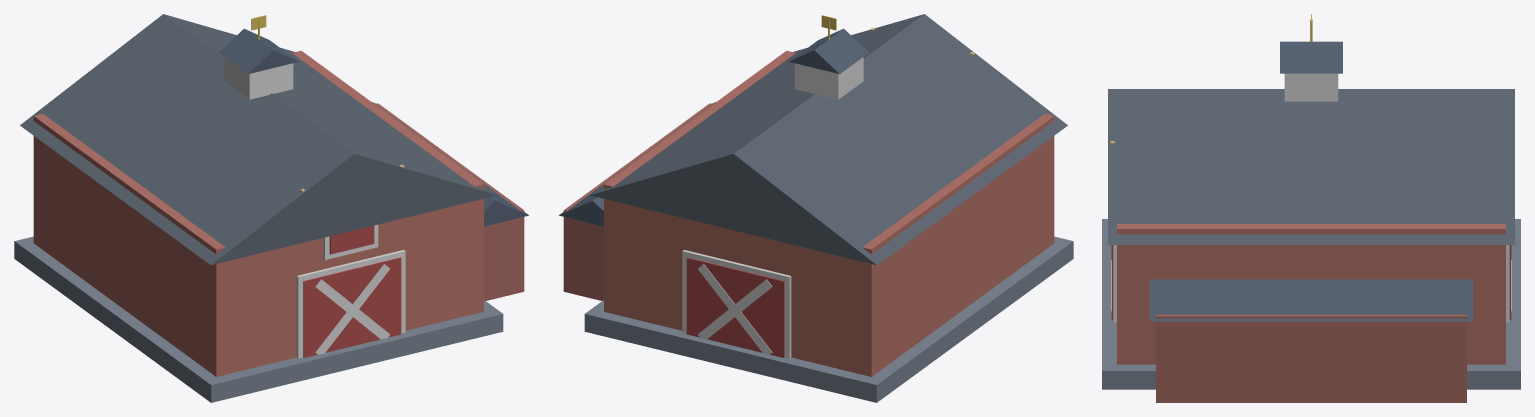
File: hart-barn.glb
The picture shows the model from 3 angles, left to right: view 1: azimuth 30°, elevation 25°; view 2: azimuth 150°, elevation 25°; view 3: azimuth 270°, elevation 25°; orthographic projection. The views are drawn at different scales.
Parts seen in each view (by area): view 1: Root; view 2: Root; view 3: Root.
Boxes of the visible parts, x1=… form: Root: x1=14, y1=14, x2=528, y2=402; Root: x1=559, y1=14, x2=1073, y2=402; Root: x1=1102, y1=14, x2=1520, y2=402.
Size of the model in its own units: 14 by 10.93 by 14.
